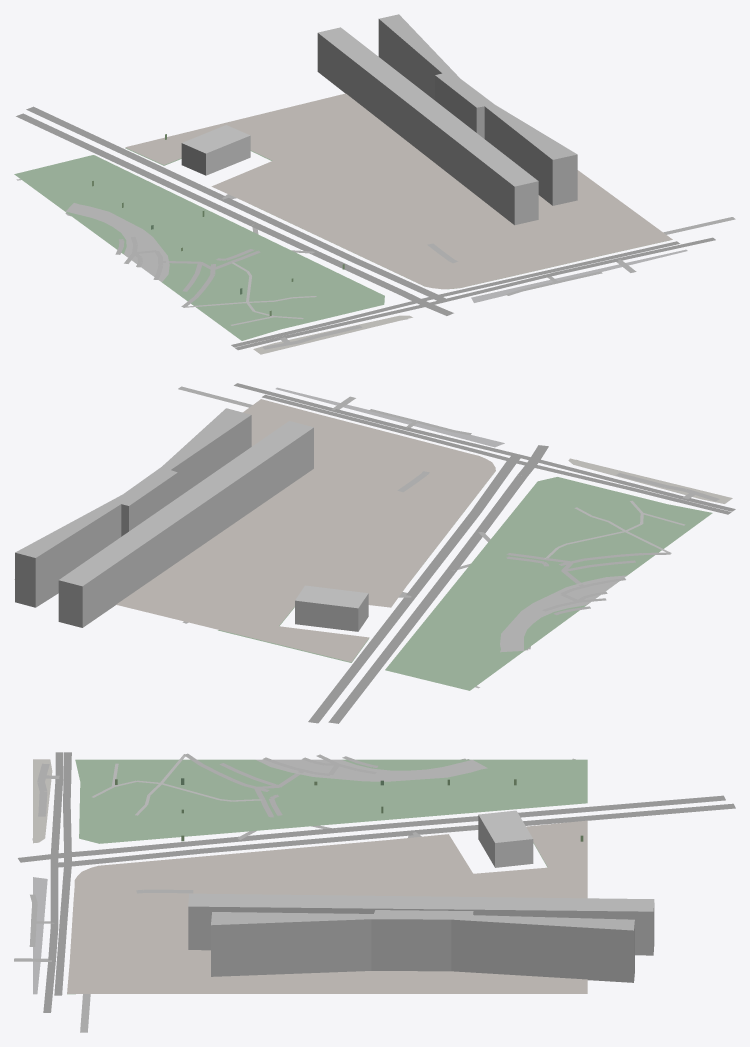
3 views of the same model, one above another, from view 1: azimuth 30°, elevation 25°; view 2: azimuth 150°, elevation 25°; view 3: azimuth 270°, elevation 25° (orthographic). The views are drawn at different scales.
Bounding box in the file's own units: 596 × 53.15 × 651.
